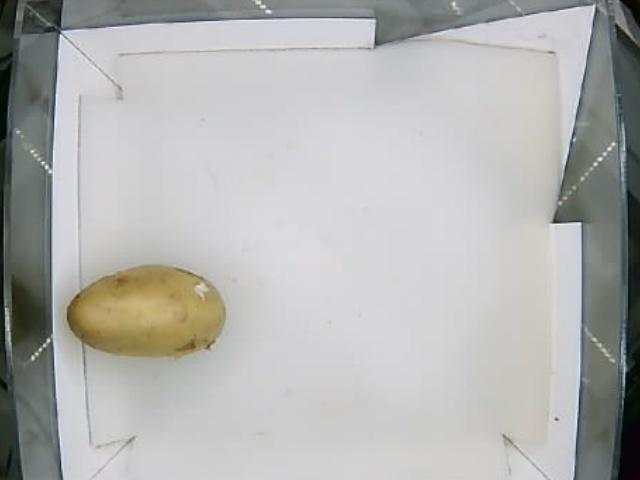Potato: (67, 267, 227, 354)
